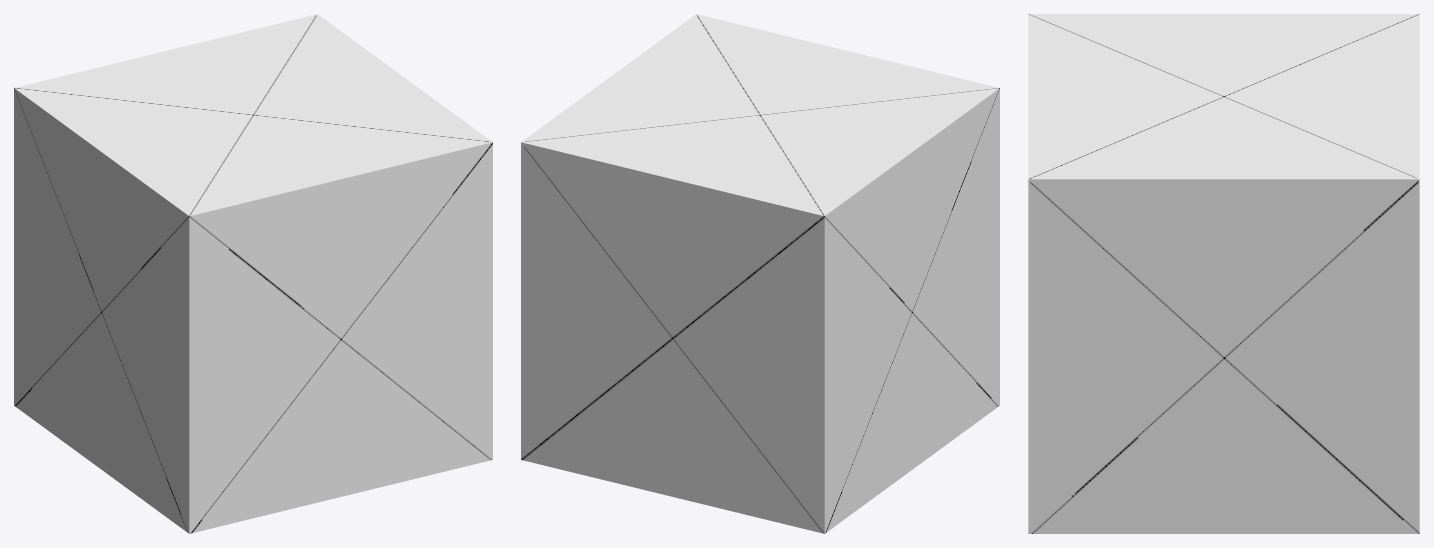
Rendered from block2.obj.
3 renders of one model, left to right at view 1: azimuth 30°, elevation 25°; view 2: azimuth 150°, elevation 25°; view 3: azimuth 270°, elevation 25°, orthographic. The views are drawn at different scales.
Parts seen in each view (by area): view 1: Cube; view 2: Cube; view 3: Cube.
Boxes of the visible parts, box(x1,y1,x2,y2) form: Cube: box(14, 14, 492, 533); Cube: box(521, 14, 999, 533); Cube: box(1028, 14, 1419, 533).
Bounding box in the file's own units: 0.9998 × 0.9998 × 0.9998.
3 materials, 3 textured.
